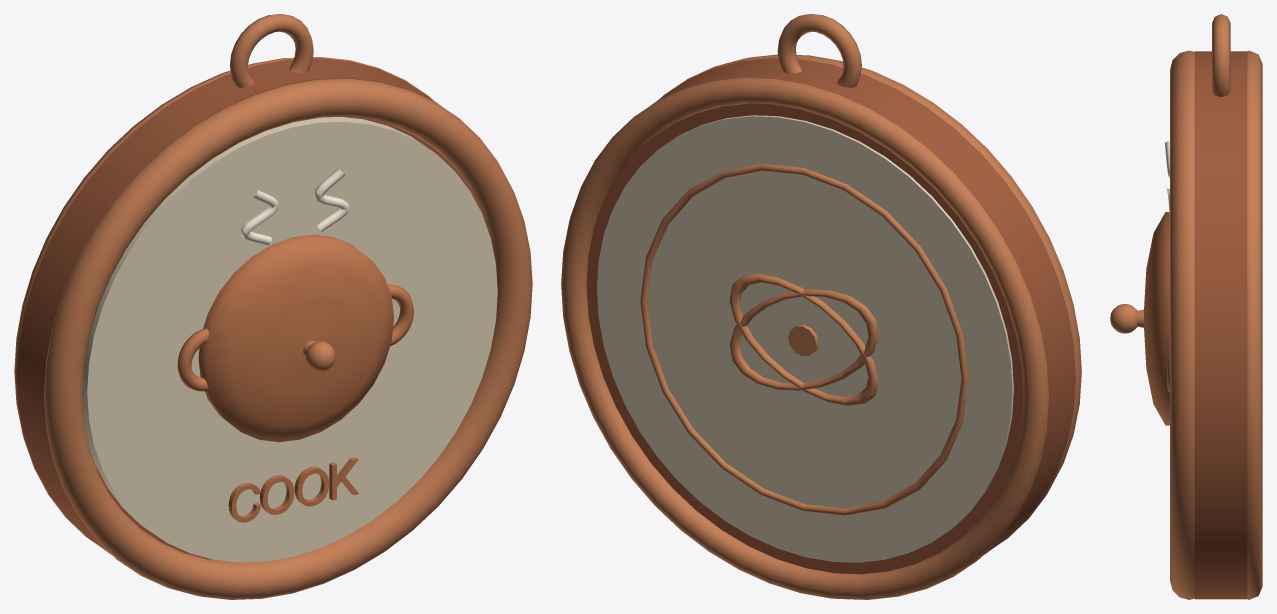
Rendered from cooking.glb.
3 views of the same model, side by side, from view 1: azimuth 30°, elevation 25°; view 2: azimuth 150°, elevation 25°; view 3: azimuth 270°, elevation 25° (orthographic). The views are drawn at different scales.
Parts seen in each view (by area): view 1: base-inner, base-rim, relief-pot, base-body, base-loop, relief-label, base-back-rim, relief-steam-right, relief-steam-left, relief-knob; view 2: base-back-inner, base-back-rim, base-body, base-back-hallmark, base-rim, base-loop; view 3: base-body, base-rim, base-back-rim, relief-pot, base-loop, relief-knob.
Boxes of the visible parts, left/top/right/bottom form: base-inner: left=82, top=117, right=497, bottom=562; base-rim: left=44, top=78, right=532, bottom=599; relief-pot: left=177, top=234, right=413, bottom=442; base-body: left=17, top=58, right=479, bottom=559; base-loop: left=230, top=14, right=313, bottom=87; relief-label: left=228, top=457, right=358, bottom=522; base-back-rim: left=14, top=57, right=432, bottom=545; relief-steam-right: left=314, top=168, right=349, bottom=232; relief-steam-left: left=241, top=189, right=278, bottom=245; relief-knob: left=305, top=341, right=335, bottom=371; base-back-inner: left=597, top=115, right=1013, bottom=562; base-back-rim: left=561, top=78, right=1048, bottom=599; base-body: left=586, top=58, right=1075, bottom=574; base-back-hallmark: left=640, top=163, right=968, bottom=515; base-rim: left=661, top=54, right=1081, bottom=547; base-loop: left=777, top=14, right=861, bottom=88; base-body: left=1194, top=51, right=1247, bottom=599; base-rim: left=1170, top=50, right=1194, bottom=599; base-back-rim: left=1247, top=50, right=1262, bottom=599; relief-pot: left=1144, top=212, right=1169, bottom=425; base-loop: left=1212, top=14, right=1230, bottom=96; relief-knob: left=1110, top=304, right=1137, bottom=333.
Bounding box in the file's own units: 1.54 × 1.72 × 0.4274.
